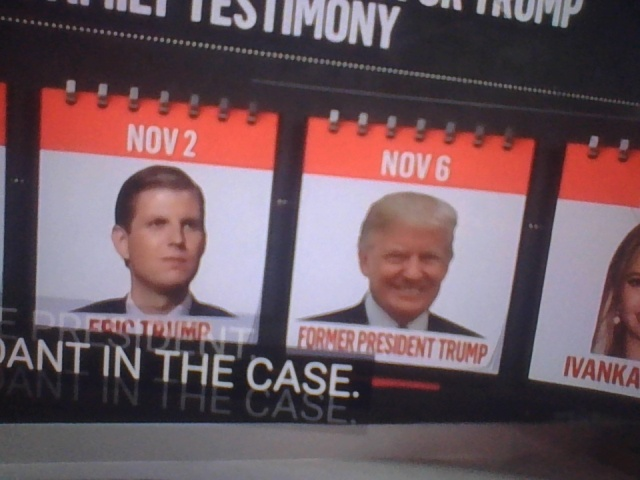fake: (347, 147, 471, 323), (111, 144, 219, 297)
